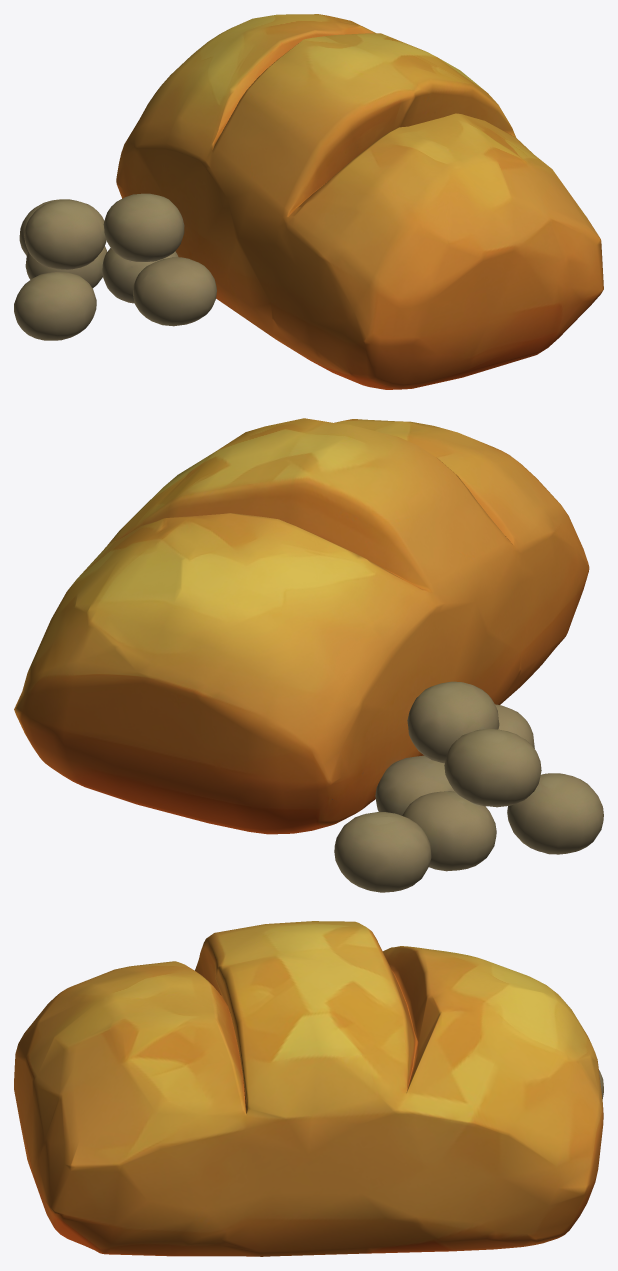
The model's file is bread.glb.
3 renders of one model, top to bottom at view 1: azimuth 30°, elevation 25°; view 2: azimuth 150°, elevation 25°; view 3: azimuth 270°, elevation 25°, orthographic. The views are drawn at different scales.
Parts seen in each view (by area): view 1: tripo_node_f799354d-6c85-4bda-91d3-b01f7eb2eb01; view 2: tripo_node_f799354d-6c85-4bda-91d3-b01f7eb2eb01; view 3: tripo_node_f799354d-6c85-4bda-91d3-b01f7eb2eb01.
Part boxes in pixels (<box>): tripo_node_f799354d-6c85-4bda-91d3-b01f7eb2eb01: <box>14,14,603,389</box>; tripo_node_f799354d-6c85-4bda-91d3-b01f7eb2eb01: <box>14,418,603,892</box>; tripo_node_f799354d-6c85-4bda-91d3-b01f7eb2eb01: <box>14,921,603,1256</box>.
Size of the model in its own units: 0.9341 by 0.521 by 0.9995.
1 material, 1 textured.
